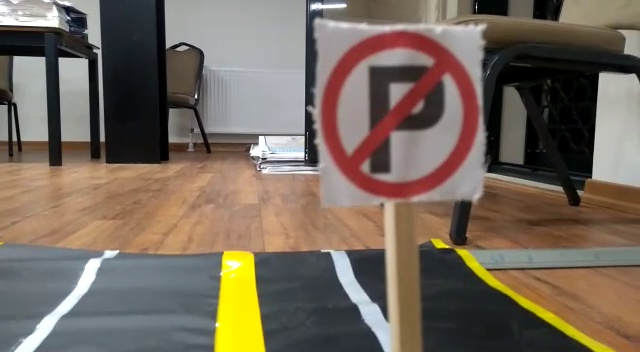park_yapilmaz: (318, 24, 480, 199)
